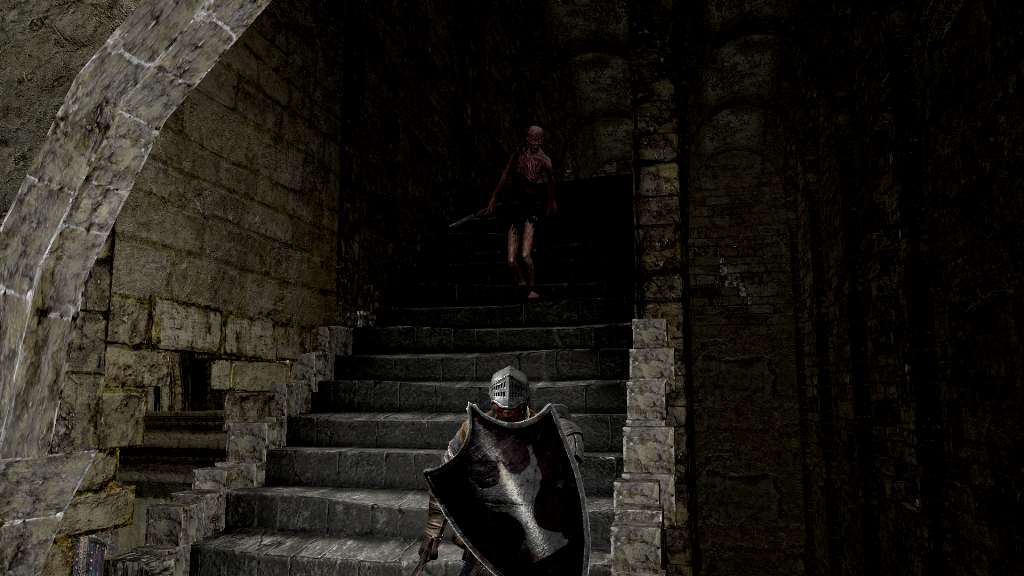hollow: (487, 125, 560, 299)
player: (412, 364, 593, 576)
